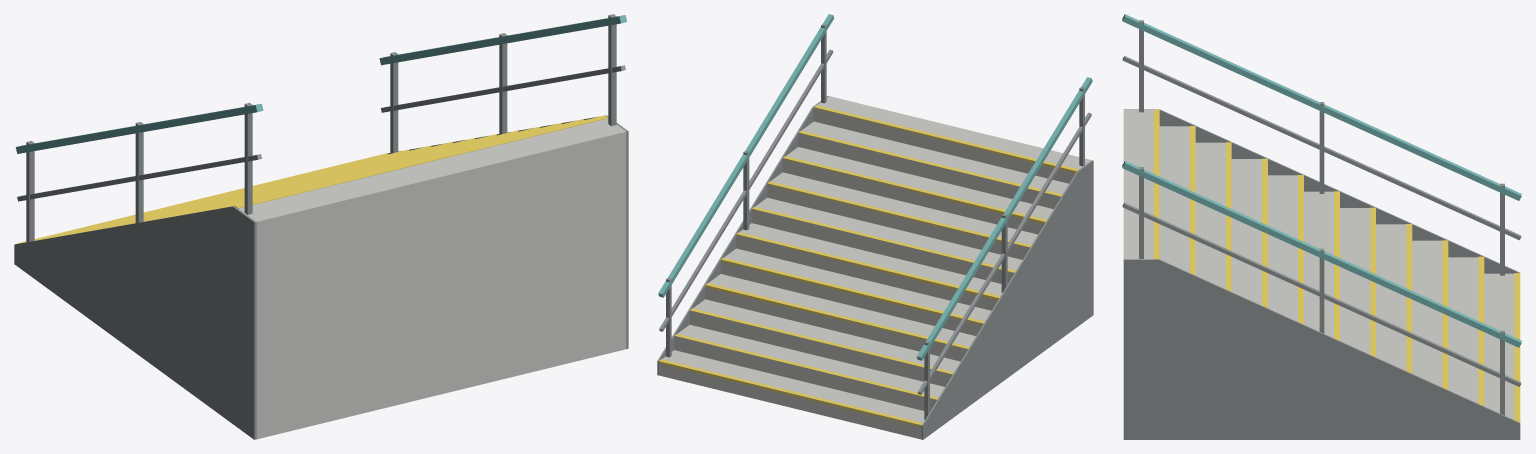
The model's file is kit_airlock_flight.fbx.
3 renders of one model, left to right at view 1: azimuth 30°, elevation 25°; view 2: azimuth 150°, elevation 25°; view 3: azimuth 270°, elevation 25°, orthographic. The views are drawn at different scales.
Visible parts, largest first — view 1: kit_airlock_flight; view 2: kit_airlock_flight; view 3: kit_airlock_flight.
Boxes of the visible parts, box(x1,y1,x2,y2) form: kit_airlock_flight: box(14, 14, 628, 439); kit_airlock_flight: box(657, 14, 1093, 439); kit_airlock_flight: box(1122, 14, 1521, 439).
Size of the model in its own units: 3.6 by 3.07 by 4.03.
